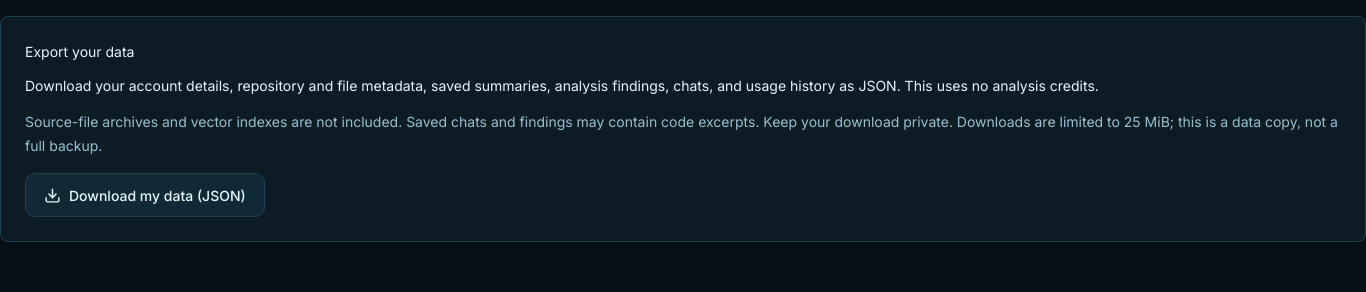
Test: shows backend errors without starting a download and allows retry
Click the button "Download my data (JSON)" at (145, 195), box [25,173,265,217]
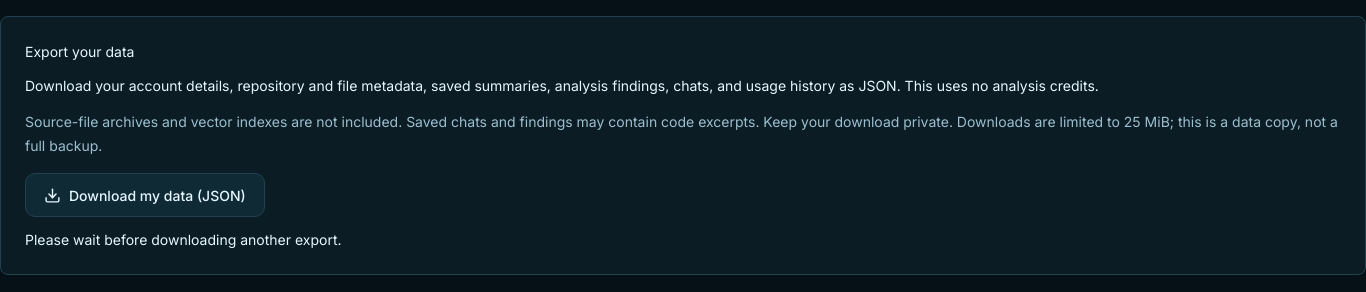
Now the message shows "Please wait", box [25,231,342,248]
